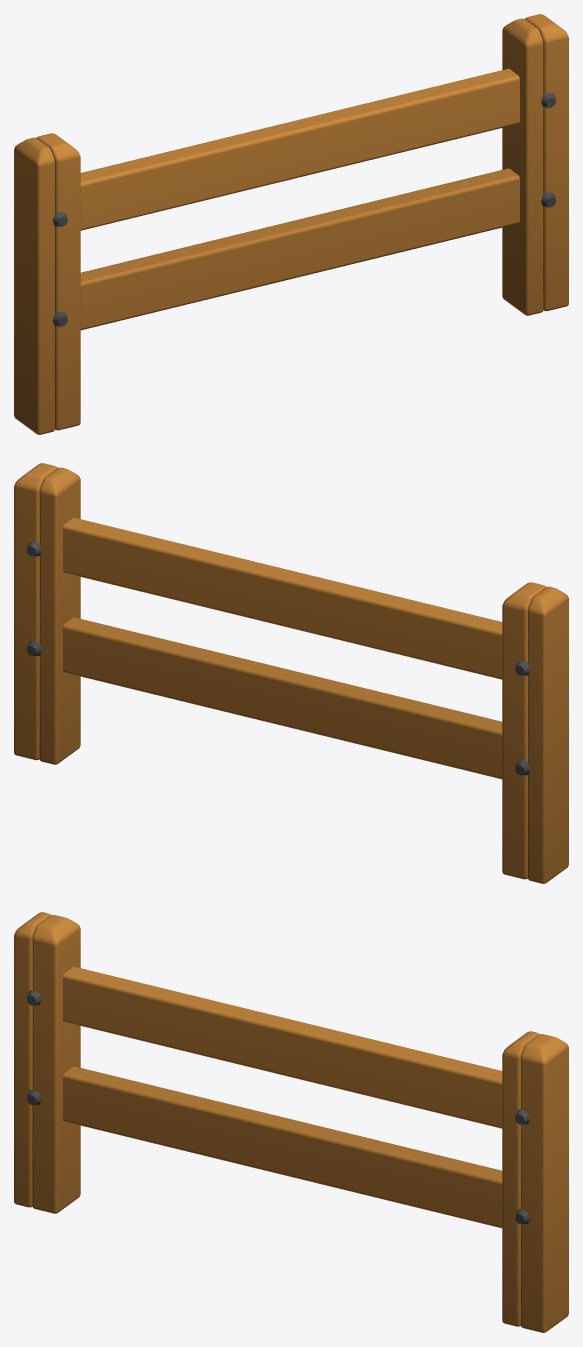
Rendered from fence_segment.glb.
3 views of the same model, one above another, from view 1: azimuth 30°, elevation 25°; view 2: azimuth 150°, elevation 25°; view 3: azimuth 330°, elevation 25° (orthographic).
Visible parts, largest first — view 1: fence_segment; view 2: fence_segment; view 3: fence_segment.
Part boxes in pixels (box(x1,y1,x2,y2)): fence_segment: box(14, 14, 568, 434); fence_segment: box(14, 463, 568, 883); fence_segment: box(14, 912, 568, 1332).
Bounding box in the file's own units: 2.18 × 1.1 × 0.224.
